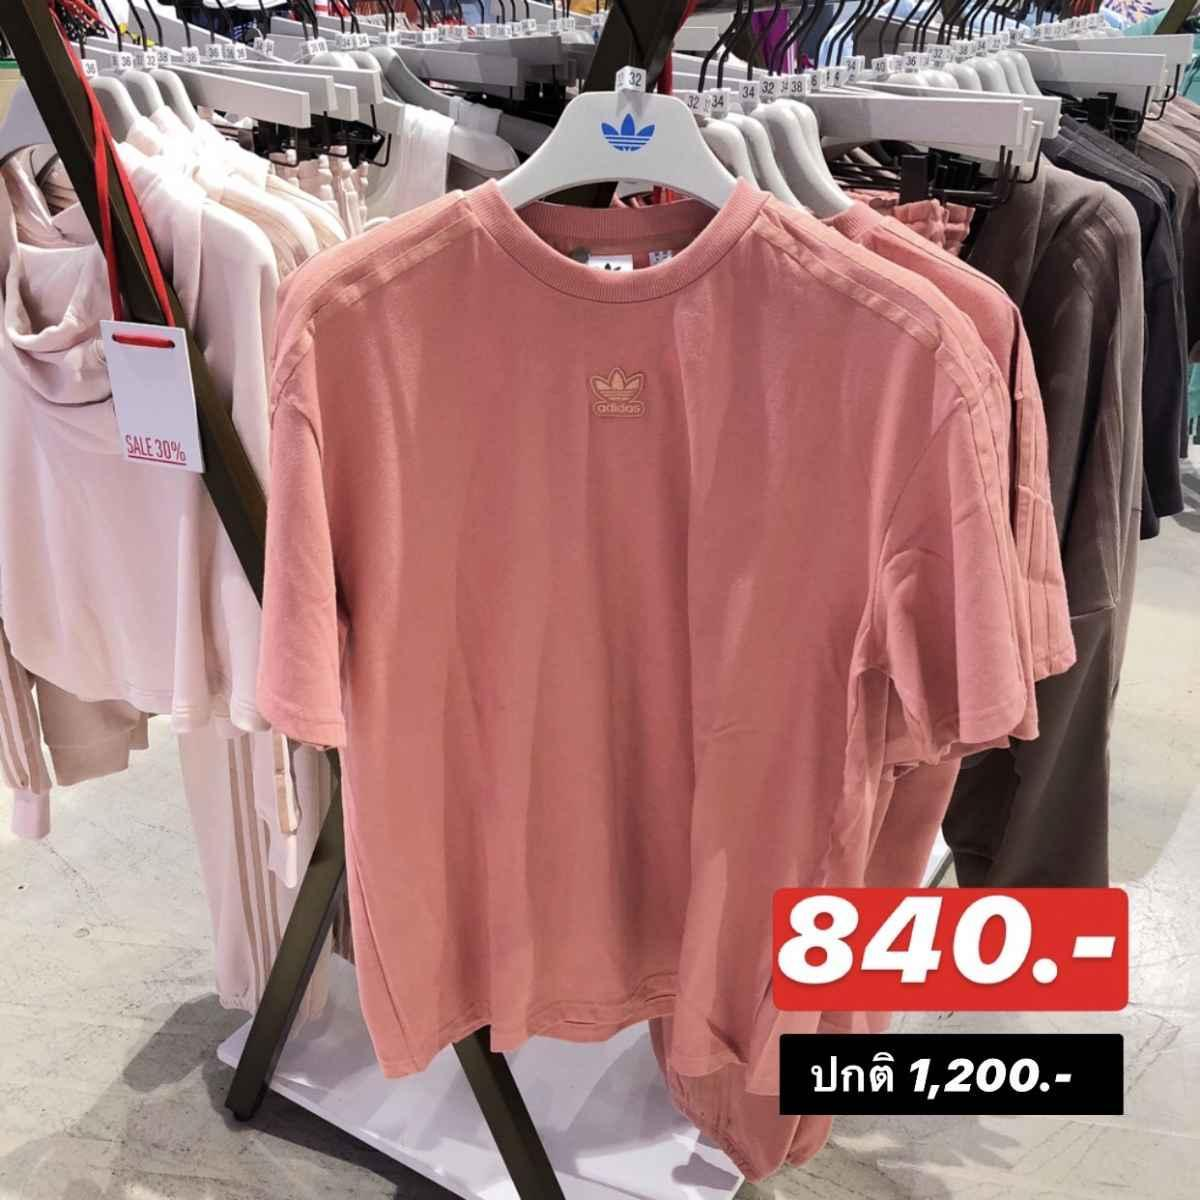Tshirt: (260, 166, 1013, 1038)
